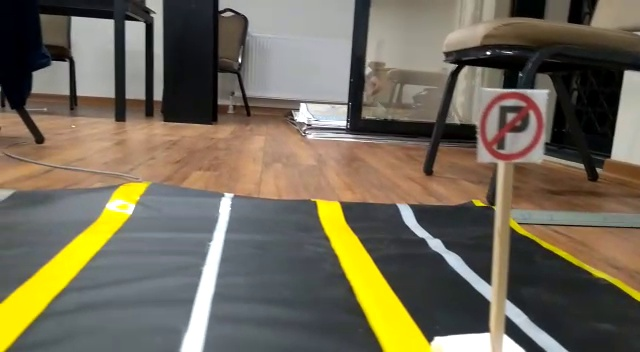park_yapilmaz: (481, 89, 550, 162)
